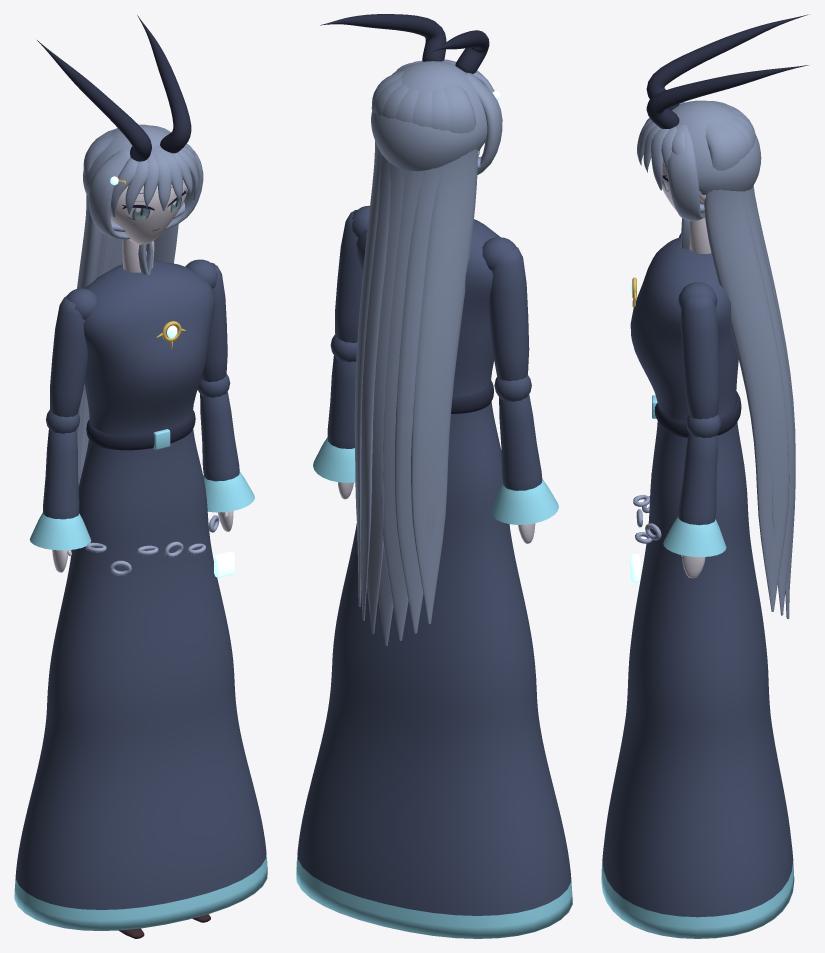
File: deadlock.glb
The picture shows the model from 3 angles, left to right: view 1: azimuth 30°, elevation 25°; view 2: azimuth 150°, elevation 25°; view 3: azimuth 270°, elevation 25°; orthographic projection. The views are drawn at different scales.
Parts seen in each view (by area): view 1: deadlock:body.mesh, deadlock:head.mesh, deadlock:foreL.mesh, deadlock:foreR.mesh, deadlock:armL.mesh, deadlock:armR.mesh; view 2: deadlock:body.mesh, deadlock:head.mesh, deadlock:foreL.mesh, deadlock:armL.mesh, deadlock:foreR.mesh, deadlock:armR.mesh; view 3: deadlock:body.mesh, deadlock:head.mesh, deadlock:foreR.mesh, deadlock:armR.mesh.
Boxes of the visible parts, x1,y1,x2,y2 form: deadlock:body.mesh: (14,260,267,930); deadlock:head.mesh: (37,15,203,551); deadlock:foreL.mesh: (29,410,91,572); deadlock:foreR.mesh: (197,374,254,531); deadlock:armL.mesh: (50,288,96,417); deadlock:armR.mesh: (185,259,227,381); deadlock:body.mesh: (296,219,572,938); deadlock:head.mesh: (320,14,502,645); deadlock:foreL.mesh: (492,375,558,543); deadlock:armL.mesh: (482,237,529,381); deadlock:foreR.mesh: (313,334,357,499); deadlock:armR.mesh: (335,205,369,342); deadlock:body.mesh: (601,237,794,938); deadlock:head.mesh: (637,14,808,618); deadlock:foreR.mesh: (663,414,726,578); deadlock:armR.mesh: (678,282,719,419).
Bounding box in the file's own units: 0.5409 × 1.88 × 0.4121.
Materials: 18 (1 with a texture image).
